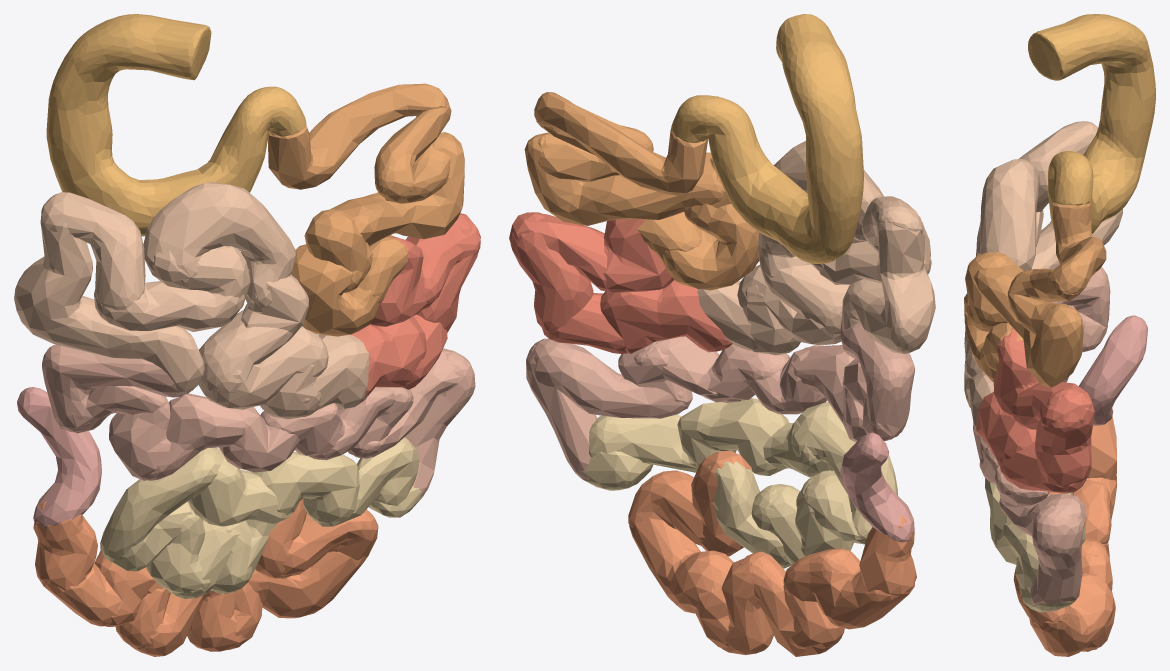
File: intestino_tenue.glb
3 views of the same model, side by side, from view 1: azimuth 30°, elevation 25°; view 2: azimuth 150°, elevation 25°; view 3: azimuth 270°, elevation 25° (orthographic). The views are drawn at different scales.
Parts seen in each view (by area): view 1: distal part of jejunum, proximal part of ileum, proximal part of jejunum, middle part of ileum, distal part of ileum, duodenum, middle part of jejunum, cecum; view 2: distal part of ileum, proximal part of ileum, middle part of ileum, proximal part of jejunum, distal part of jejunum, duodenum, middle part of jejunum, cecum; view 3: duodenum, proximal part of jejunum, middle part of jejunum, distal part of jejunum, proximal part of ileum, distal part of ileum, cecum, middle part of ileum.
Part boxes in pixels (x1=…): distal part of jejunum: x1=14, y1=182, x2=369, y2=419; proximal part of ileum: x1=42, y1=344, x2=475, y2=496; proximal part of jejunum: x1=267, y1=83, x2=464, y2=336; middle part of ileum: x1=100, y1=437, x2=424, y2=598; distal part of ileum: x1=33, y1=498, x2=378, y2=656; duodenum: x1=46, y1=14, x2=306, y2=236; middle part of jejunum: x1=350, y1=213, x2=480, y2=403; cecum: x1=17, y1=387, x2=101, y2=528; distal part of ileum: x1=628, y1=450, x2=916, y2=656; proximal part of ileum: x1=526, y1=320, x2=914, y2=479; middle part of ileum: x1=575, y1=398, x2=897, y2=568; proximal part of jejunum: x1=524, y1=92, x2=759, y2=290; distal part of jejunum: x1=694, y1=141, x2=935, y2=355; duodenum: x1=671, y1=14, x2=863, y2=263; middle part of jejunum: x1=509, y1=212, x2=732, y2=354; cecum: x1=840, y1=432, x2=914, y2=542; duodenum: x1=1028, y1=14, x2=1155, y2=233; proximal part of jejunum: x1=964, y1=202, x2=1106, y2=387; middle part of jejunum: x1=976, y1=328, x2=1094, y2=493; distal part of jejunum: x1=964, y1=121, x2=1122, y2=442; proximal part of ileum: x1=973, y1=267, x2=1110, y2=612; distal part of ileum: x1=1013, y1=416, x2=1117, y2=656; cecum: x1=1079, y1=315, x2=1147, y2=425; middle part of ileum: x1=985, y1=478, x2=1085, y2=612.
Bounding box in the file's own units: 194 × 272 × 79.54.
